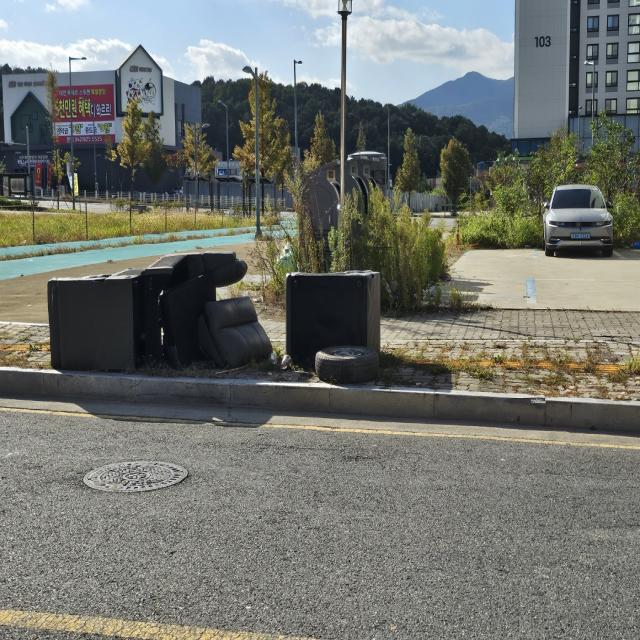Large Waste Items: (139, 245, 252, 373), (280, 261, 406, 374), (42, 256, 156, 376), (210, 288, 270, 356)
